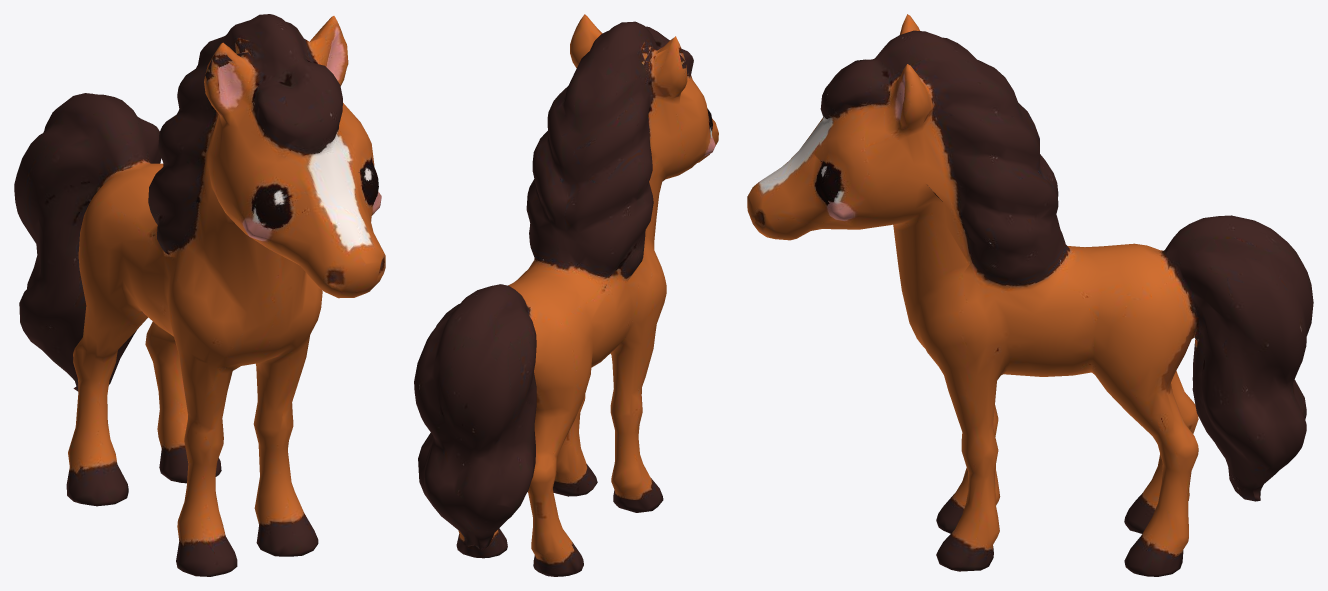
Rendered from horse.glb.
3 views of the same model, side by side, from view 1: azimuth 30°, elevation 25°; view 2: azimuth 150°, elevation 25°; view 3: azimuth 270°, elevation 25° (orthographic). The views are drawn at different scales.
Visible parts, largest first — view 1: Mesh_0.001; view 2: Mesh_0.001; view 3: Mesh_0.001.
Part boxes in pixels (x1,y1,x2,y2): Mesh_0.001: [14, 14, 385, 576]; Mesh_0.001: [414, 14, 718, 576]; Mesh_0.001: [747, 14, 1313, 576].
Size of the model in its own units: 0.5206 by 1.89 by 1.9.
Materials: 1 (1 with a texture image).
